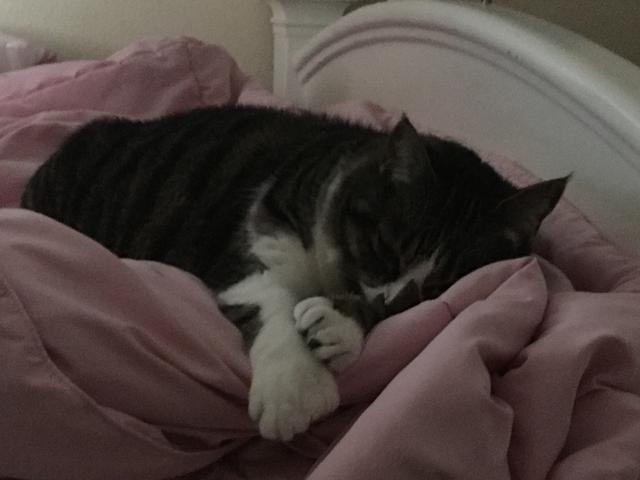playdoh: (22, 106, 576, 437)
